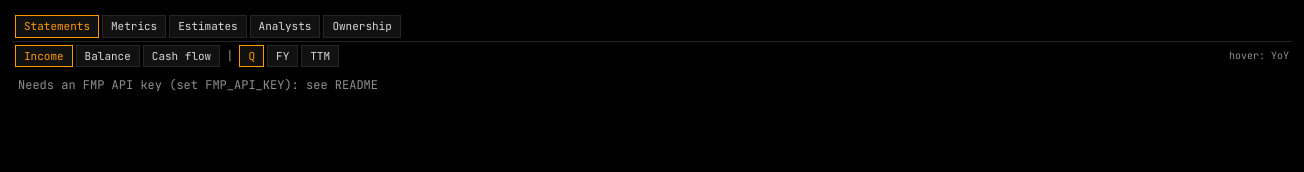
Scenario: FundamentalsWidget › shows the key note on 503 and a red error otherwise
expect the text "Needs an FMP API key (set FMP_API_KEY): see README" is shown: met, box [18, 77, 378, 93]
Click the button "Analysts".
click(285, 26)  # box [250, 15, 320, 38]
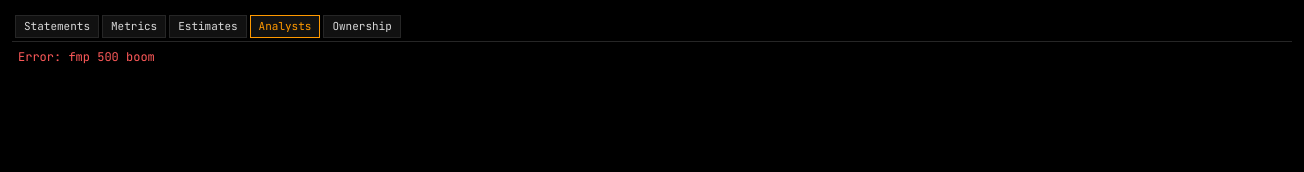
expect the text "Error: fmp 500 boom" is shown: met, box [18, 48, 155, 64]
